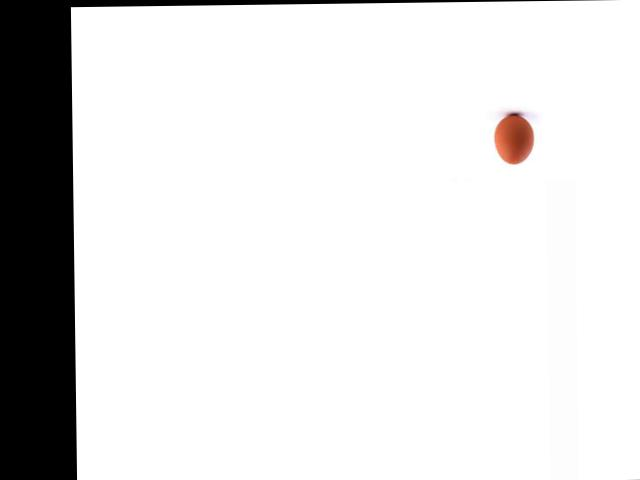egg: (494, 114, 535, 164)
